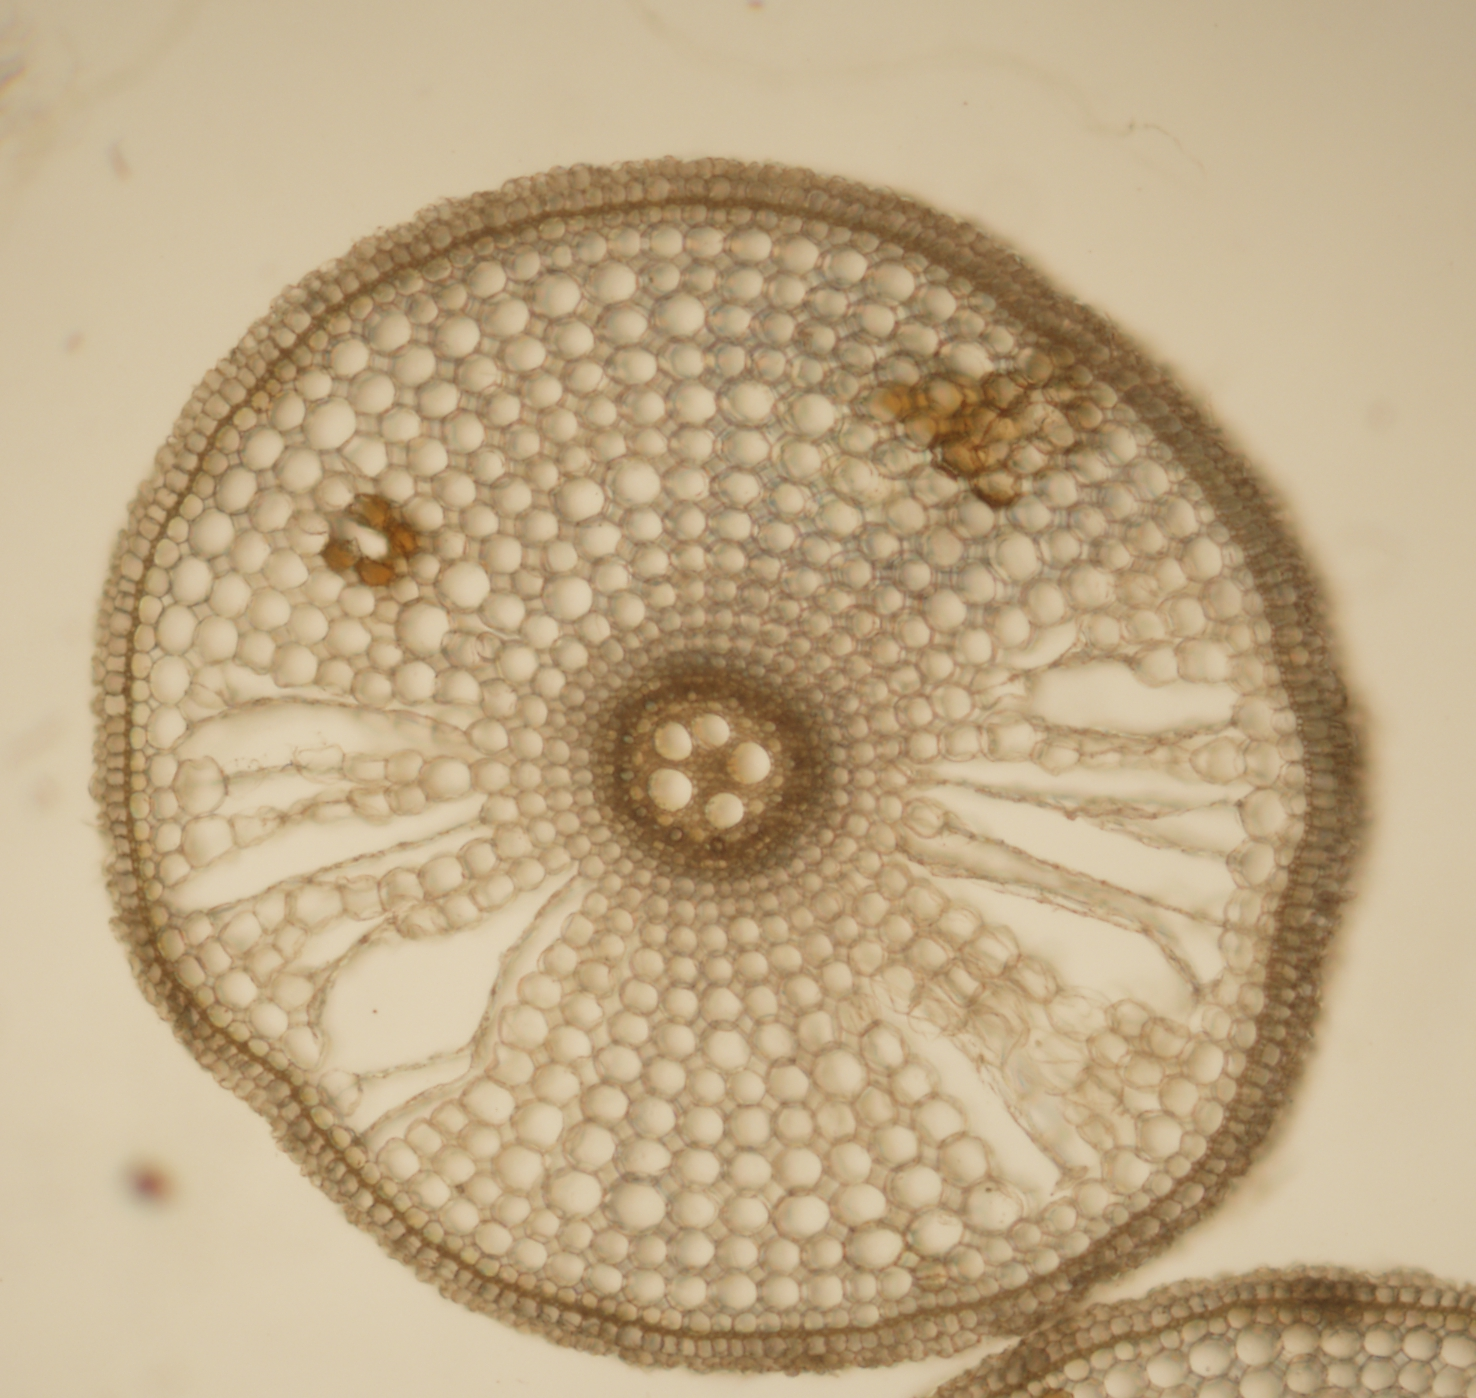lm: (647, 767, 693, 811), (726, 742, 772, 784), (653, 721, 693, 759), (691, 713, 729, 752), (704, 792, 744, 828)
